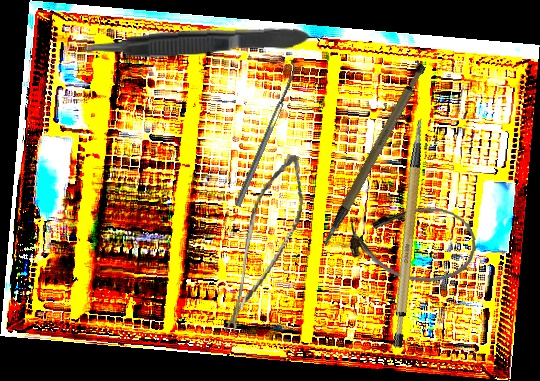Cannula: (345, 199, 480, 287)
Micro Scissor: (223, 148, 311, 340)
Scalpel Handle: (294, 60, 450, 247), (362, 115, 461, 350)
Spatula Surgical: (228, 58, 302, 208)
Tissue Forceps: (74, 24, 311, 62)
